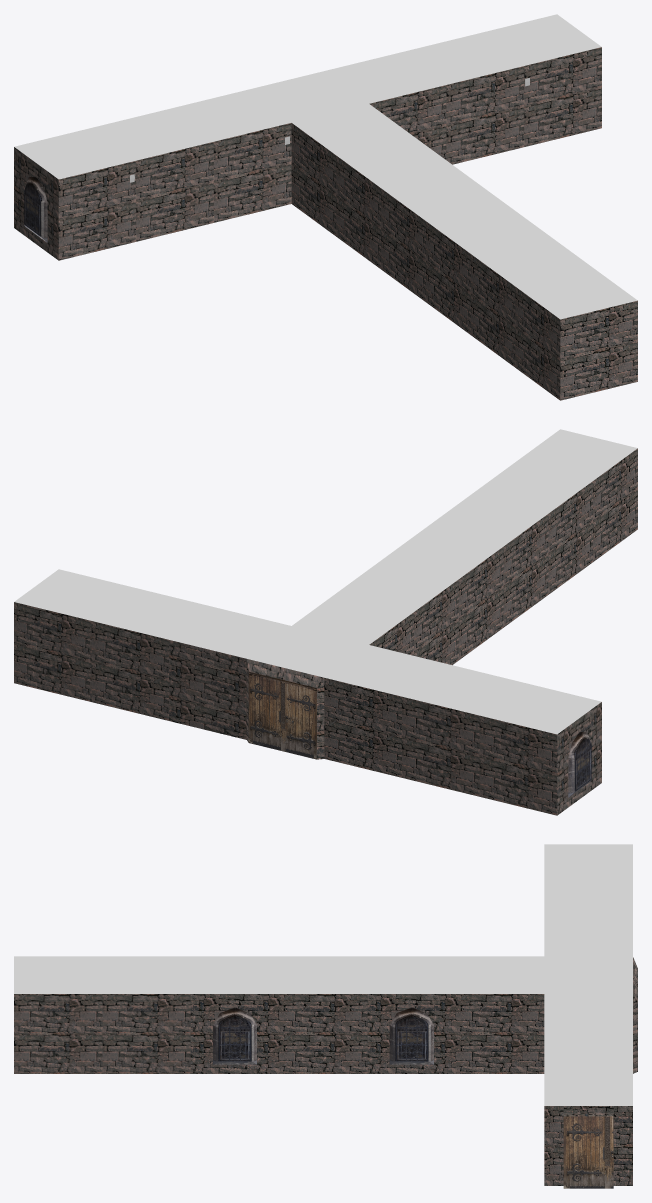
Rendered from corridor_bake3b3.fbx.
3 renders of one model, top to bottom at view 1: azimuth 30°, elevation 25°; view 2: azimuth 150°, elevation 25°; view 3: azimuth 270°, elevation 25°, orthographic.
Parts seen in each view (by area): view 1: Corridor_bake, Ceiling_bake; view 2: Corridor_bake, Ceiling_bake; view 3: Corridor_bake, Ceiling_bake.
Part boxes in pixels (<box>): Corridor_bake: <box>14,47,637,400</box>; Ceiling_bake: <box>14,14,637,319</box>; Corridor_bake: <box>14,448,637,815</box>; Ceiling_bake: <box>14,429,637,734</box>; Corridor_bake: <box>14,957,637,1188</box>; Ceiling_bake: <box>14,844,632,1105</box>.
Bounding box in the file's own units: 1424 × 200 × 1412.
